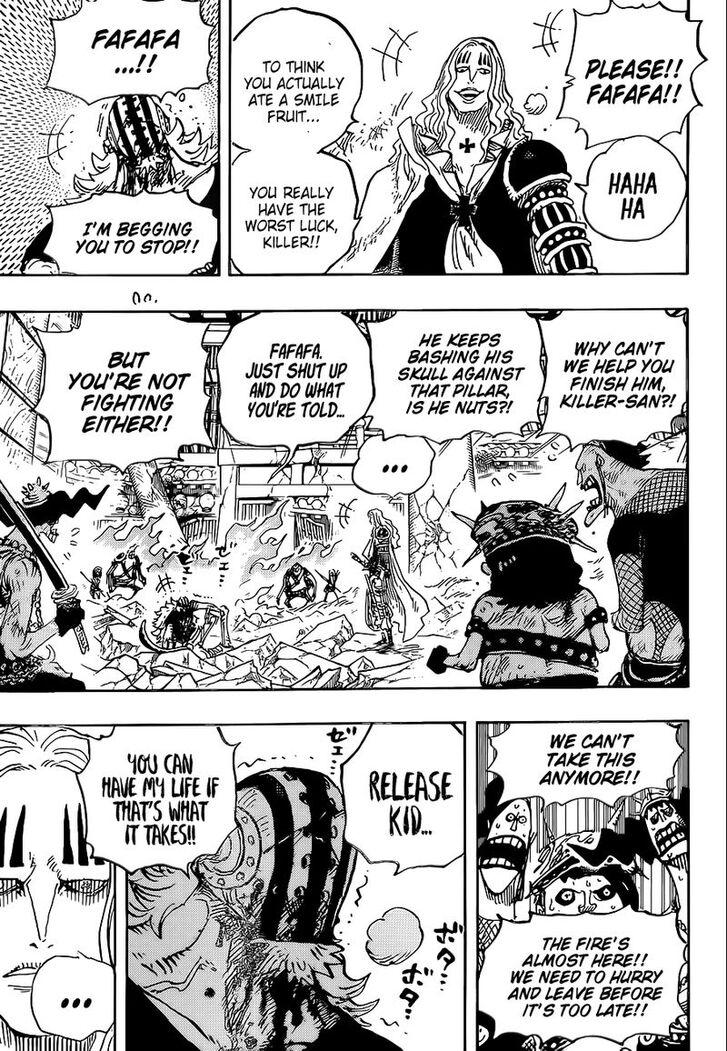Bubble: (478, 902, 689, 1049), (28, 310, 213, 476), (74, 724, 242, 881), (536, 308, 691, 452), (363, 309, 533, 438), (555, 0, 709, 131), (215, 309, 360, 448), (340, 722, 467, 877), (229, 7, 364, 150), (485, 720, 687, 814), (43, 0, 216, 105), (227, 154, 361, 277), (41, 186, 221, 277), (580, 135, 690, 243), (29, 951, 117, 1042), (364, 443, 437, 498)
